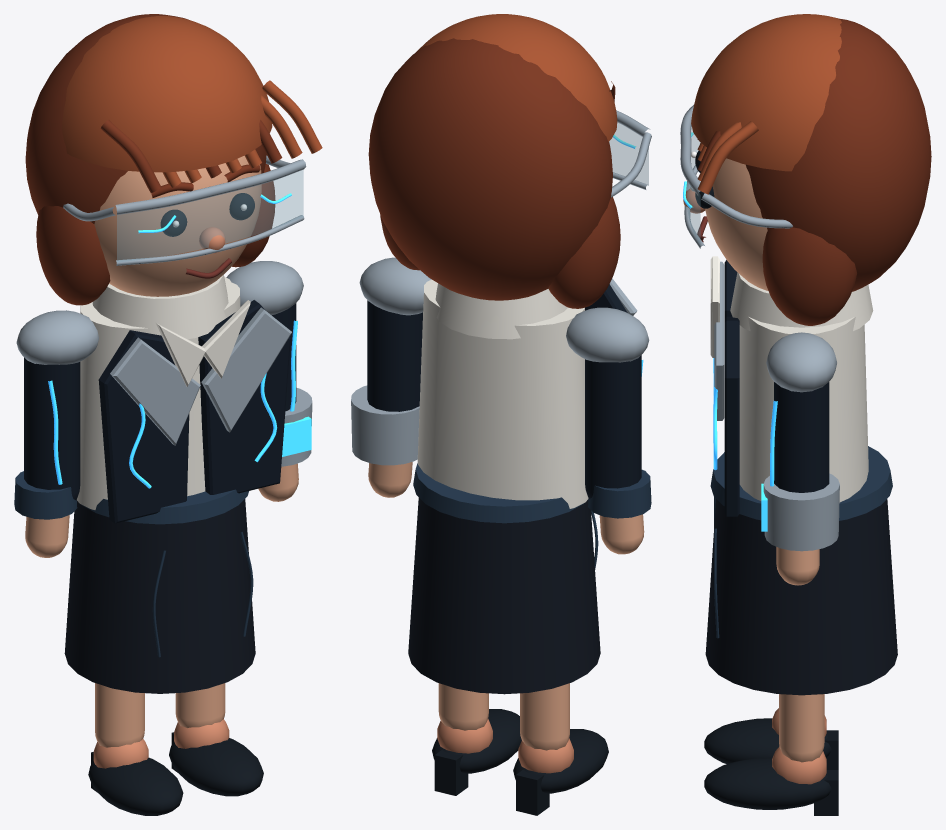
The model's file is relay.glb.
The picture shows the model from 3 angles, left to right: view 1: azimuth 30°, elevation 25°; view 2: azimuth 150°, elevation 25°; view 3: azimuth 270°, elevation 25°; orthographic projection.
Visible parts, largest first — view 1: pencil-skirt, hair-crown, face, left-jacket-panel, transparent-smart-visor, right-jacket-panel, hair-back, torso-blouse, left-sleeve, left-bob, shirt-collar-base, right-metal-lapel (+24 smaller); view 2: hair-back, pencil-skirt, torso-blouse, left-sleeve, hair-crown, right-sleeve, shirt-collar-base, left-bob, relay-wrist-console, skirt-waistband, left-shoulder-armor, right-shoulder-armor (+13 smaller); view 3: pencil-skirt, hair-back, hair-crown, torso-blouse, right-bob, right-sleeve, face, relay-wrist-console, right-shoe, right-shoulder-armor, right-jacket-panel, shirt-collar-base (+13 smaller).
Boxes of the visible parts, box(x1,y1,x2,y2) form: pencil-skirt: box(64, 499, 255, 693); hair-crown: box(62, 16, 272, 172); face: box(94, 155, 261, 296); left-jacket-panel: box(98, 330, 189, 523); transparent-smart-visor: box(117, 170, 303, 262); right-jacket-panel: box(198, 300, 290, 494); hair-back: box(25, 14, 266, 223); torso-blouse: box(77, 277, 240, 509); left-sleeve: box(24, 357, 80, 500); left-bob: box(36, 206, 110, 305); shirt-collar-base: box(92, 274, 228, 339); right-metal-lapel: box(201, 307, 291, 432); hair-back: box(368, 38, 612, 300); pencil-skirt: box(408, 497, 600, 694); torso-blouse: box(417, 279, 588, 508); left-sleeve: box(585, 355, 641, 498); hair-crown: box(416, 14, 617, 141); right-sleeve: box(367, 300, 422, 411); shirt-collar-base: box(435, 283, 567, 339); left-bob: box(548, 197, 620, 308); relay-wrist-console: box(351, 385, 419, 465); skirt-waistband: box(413, 463, 583, 523); left-shoulder-armor: box(566, 307, 649, 362); right-shoulder-armor: box(359, 257, 431, 315); pencil-skirt: box(705, 499, 897, 695); hair-back: box(746, 18, 931, 291); hair-crown: box(691, 14, 841, 171); torso-blouse: box(739, 316, 868, 502); right-bob: box(762, 227, 856, 325); right-sleeve: box(774, 382, 829, 492); face: box(705, 158, 768, 290); relay-wrist-console: box(763, 473, 839, 551); right-shoe: box(704, 757, 831, 809); right-shoulder-armor: box(766, 332, 836, 392); right-jacket-panel: box(724, 316, 739, 516); shirt-collar-base: box(730, 272, 873, 330).
Bounding box in the file's own units: 1.36 × 3.43 × 1.02.
